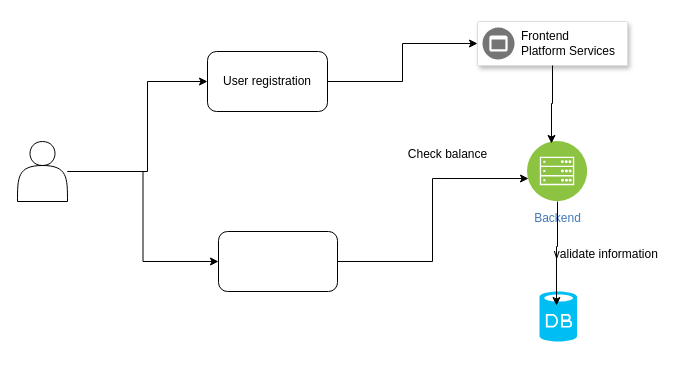
Image size: 690x380. Some labels were removed from this diagram. The shapes that lost their labels are listed below. From the top down, each one's centre as x and y in pixels, then its label:
At (278,261): "Money Transfer".
At (557,316): "Database".
